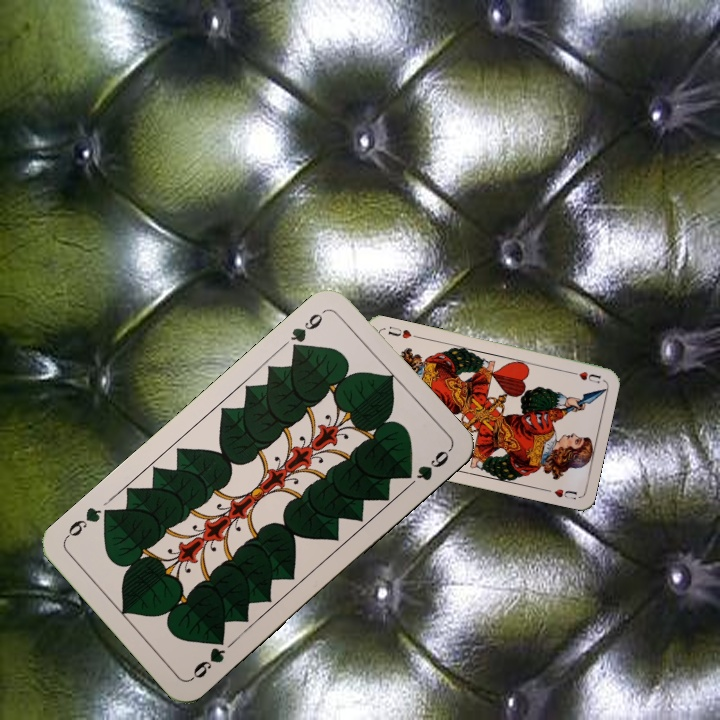G9: (187, 631, 228, 683), (286, 309, 326, 357)
HU: (565, 367, 603, 386)
